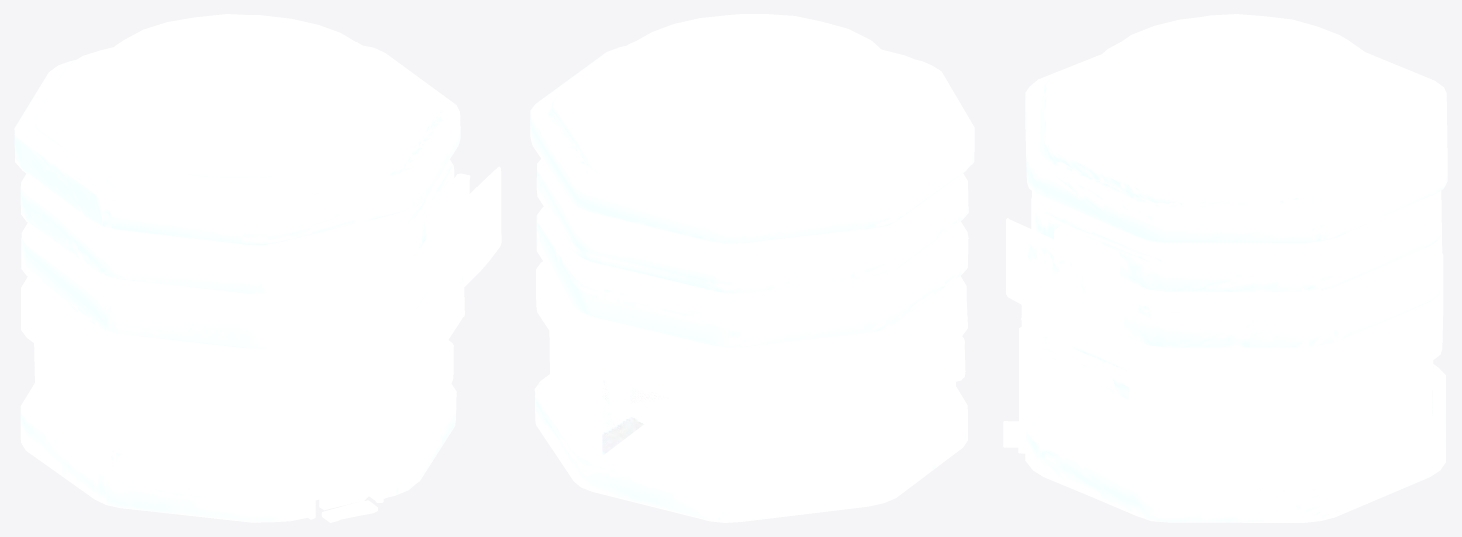
File: centro-cura-toy.glb
The picture shows the model from 3 angles, left to right: view 1: azimuth 30°, elevation 25°; view 2: azimuth 150°, elevation 25°; view 3: azimuth 270°, elevation 25°; orthographic projection.
Visible parts, largest first — view 1: mesh_node; view 2: mesh_node; view 3: mesh_node.
Boxes of the visible parts, x1,y1,x2,y2 form: mesh_node: (14,14,501,522); mesh_node: (530,14,974,522); mesh_node: (1003,14,1447,522).
Bounding box in the file's own units: 1 × 0.9336 × 0.9941.
1 material, 1 textured.
